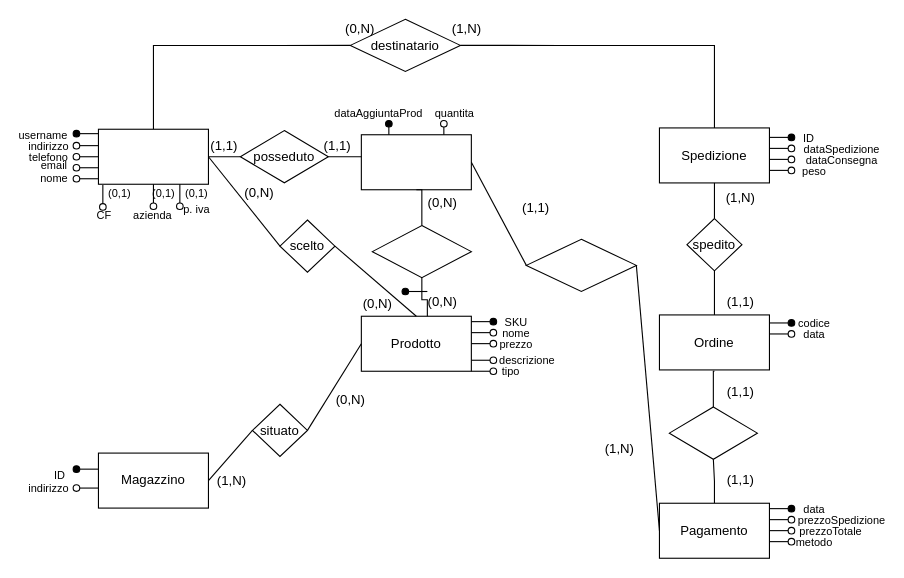
This 904x578 diagram has some shape labels left out. The shapes that lost their labels are listed below. From the top down, each one's centre as x and y in pixels, then its label:
[152,156]: Utente
[415,162]: Carrello
[421,251]: contenuto
[580,265]: procedimento
[712,432]: effettuato
